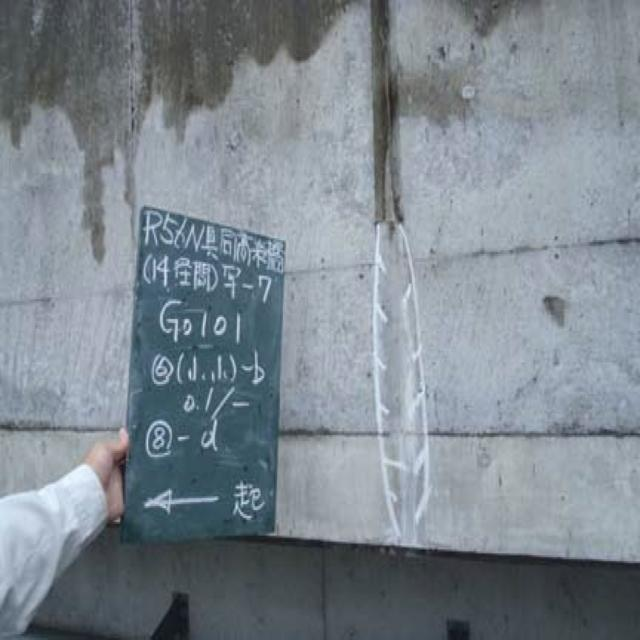freelime: (367, 231, 453, 543)
leakage: (10, 3, 421, 203)
